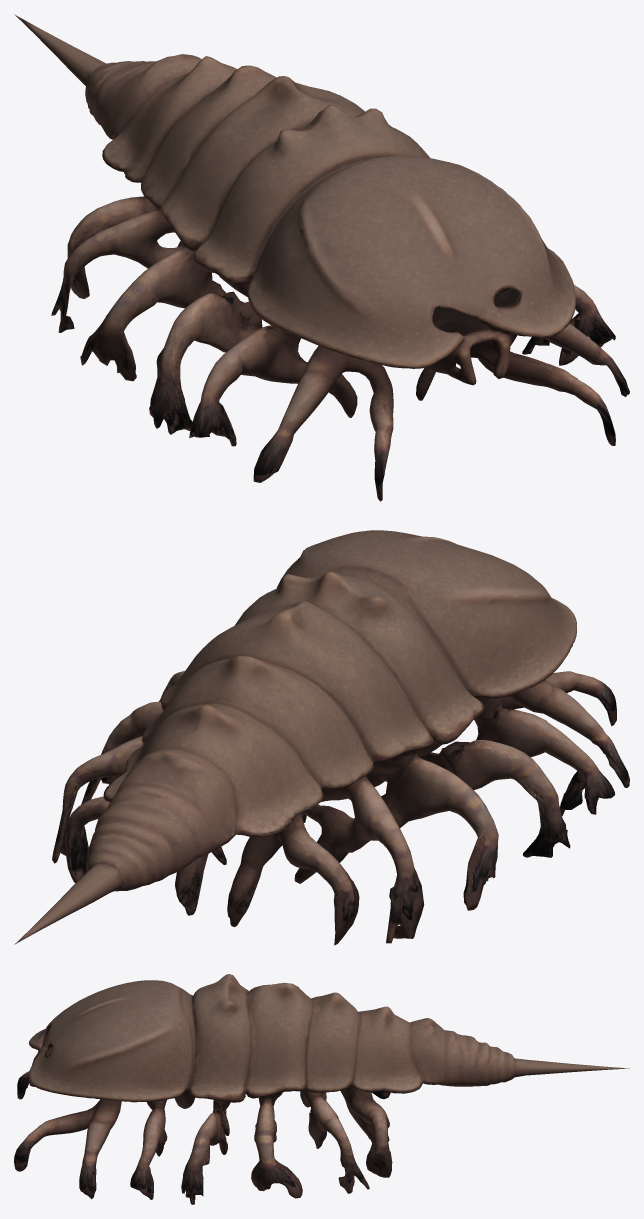
3 renders of one model, top to bottom at view 1: azimuth 30°, elevation 25°; view 2: azimuth 150°, elevation 25°; view 3: azimuth 270°, elevation 25°, orthographic. The views are drawn at different scales.
Visible parts, largest first — view 1: LOCAL_TELSON_STUDY_NOT_READY; view 2: LOCAL_TELSON_STUDY_NOT_READY; view 3: LOCAL_TELSON_STUDY_NOT_READY.
Part boxes in pixels (<box>): LOCAL_TELSON_STUDY_NOT_READY: <box>14,14,629,501</box>; LOCAL_TELSON_STUDY_NOT_READY: <box>14,530,629,945</box>; LOCAL_TELSON_STUDY_NOT_READY: <box>14,974,629,1204</box>.
Bounding box in the file's own units: 0.05 × 0.0301 × 0.1.
1 material, 1 textured.
